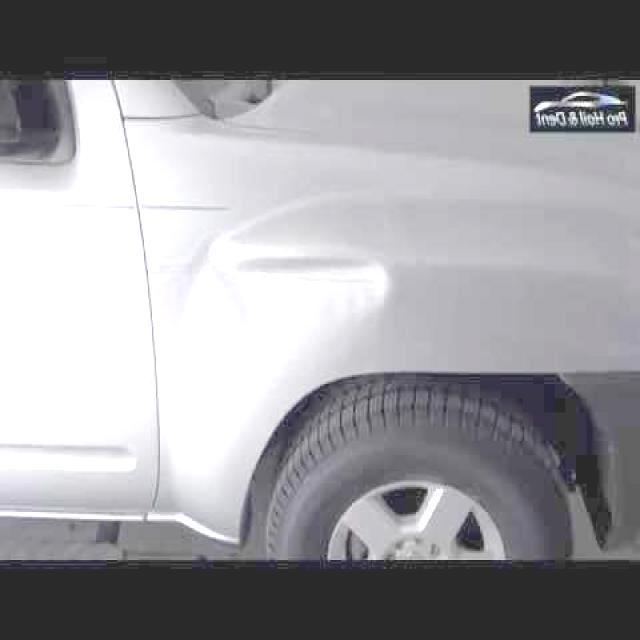minor: (182, 225, 402, 352)
